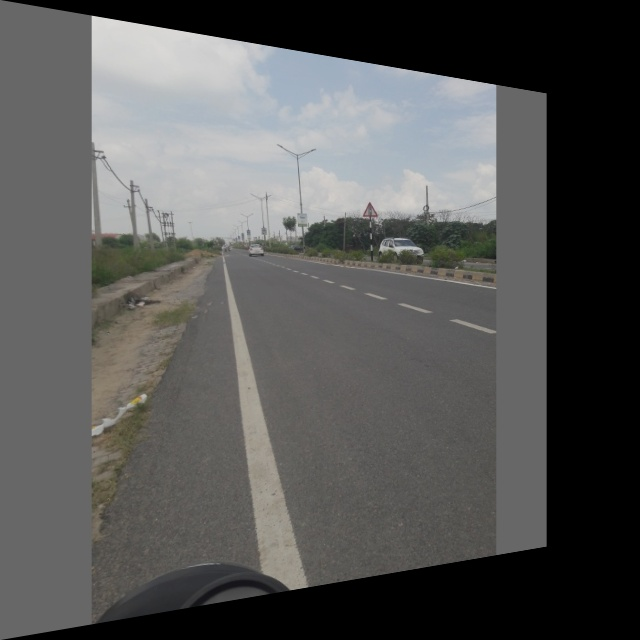Gap_in_Median: (359, 198, 380, 219)
